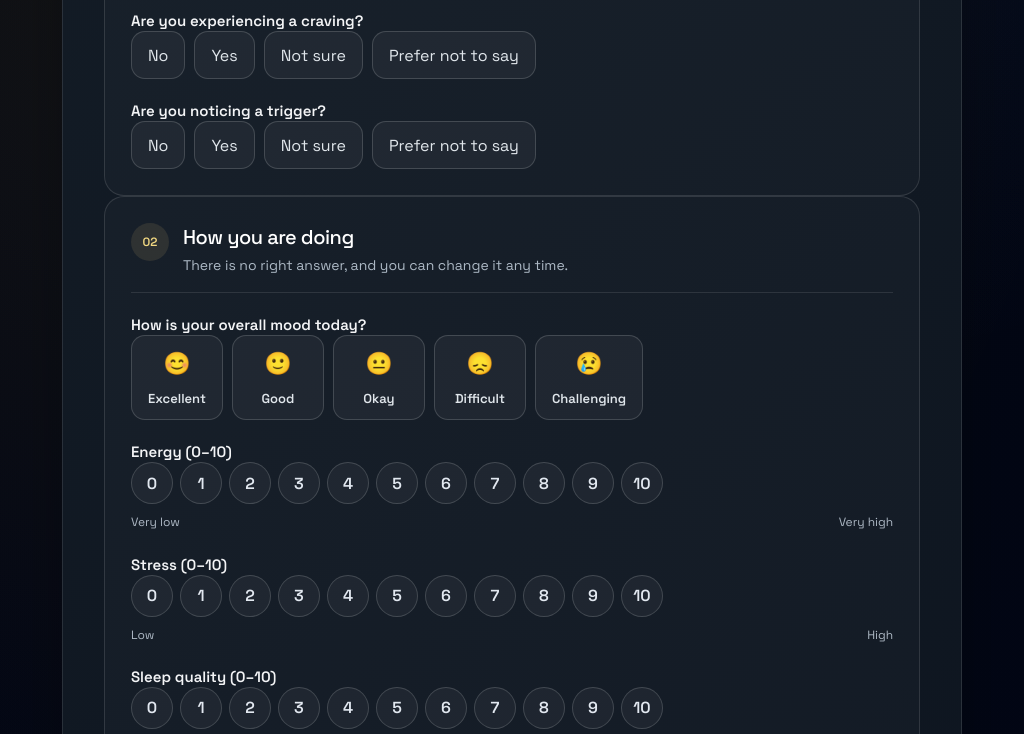
recovery check-in › records a failed save by safe feature and error code while preserving the user's answers
(page scrolled)
Click the button "😊 Excellent" at (177, 378), box [131, 335, 223, 420]
(page scrolled)
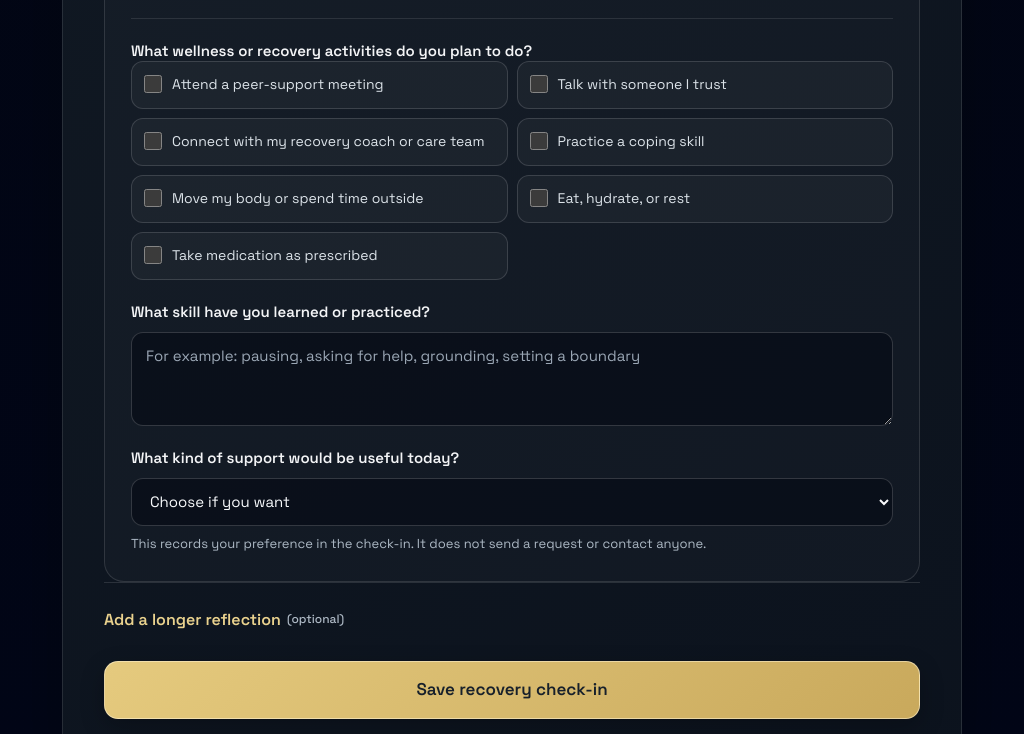
Click the button "Save recovery check-in" at (512, 690), box [104, 662, 920, 719]
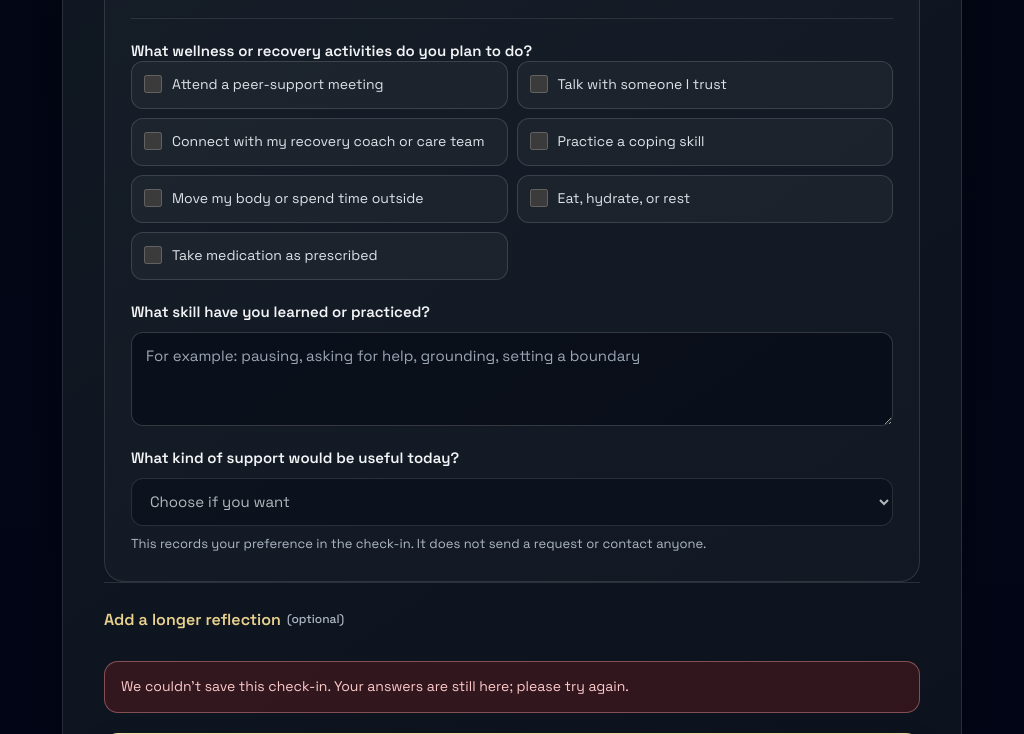
Result: the message shows "We couldn’t save this check-in" at [121, 678, 629, 696]
